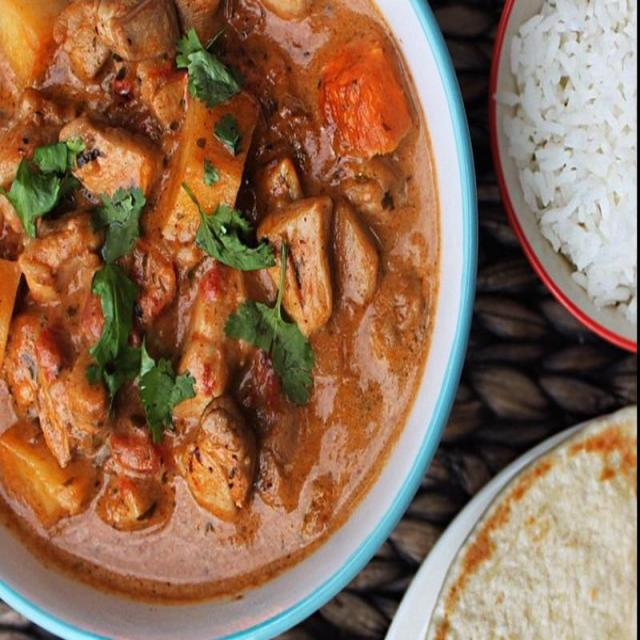chicken: (0, 0, 425, 612)
rice: (502, 0, 640, 321)
roti: (440, 410, 640, 640)
